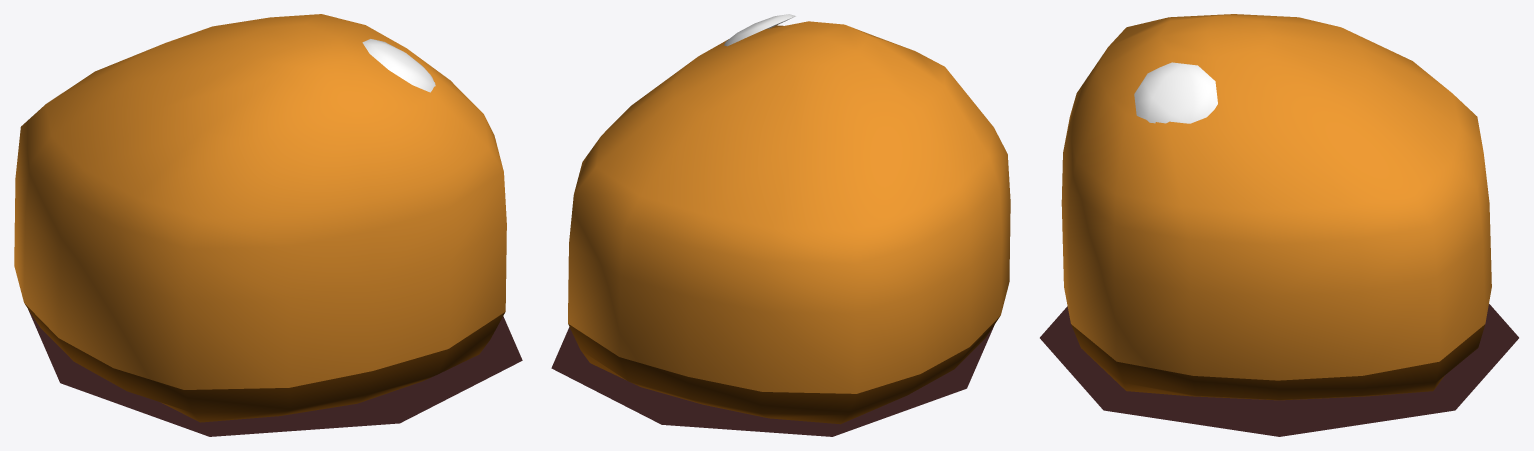
Rendered from Oozium238Mesh.AmberBlaze.glb.
3 renders of one model, left to right at view 1: azimuth 30°, elevation 25°; view 2: azimuth 150°, elevation 25°; view 3: azimuth 270°, elevation 25°, orthographic. The views are drawn at different scales.
Parts seen in each view (by area): view 1: Oozium238Mesh.AmberBlaze; view 2: Oozium238Mesh.AmberBlaze; view 3: Oozium238Mesh.AmberBlaze.
Part boxes in pixels (x1,y1,x2,y2): Oozium238Mesh.AmberBlaze: [14, 14, 522, 436]; Oozium238Mesh.AmberBlaze: [551, 14, 1010, 436]; Oozium238Mesh.AmberBlaze: [1040, 14, 1518, 436].
Bounding box in the file's own units: 2.04 × 1.44 × 2.07.
Materials: 1 (1 with a texture image).
